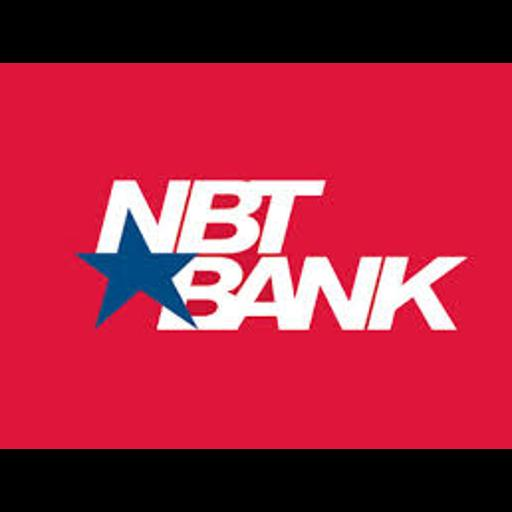NBT Bank: (0, 63, 512, 449)
